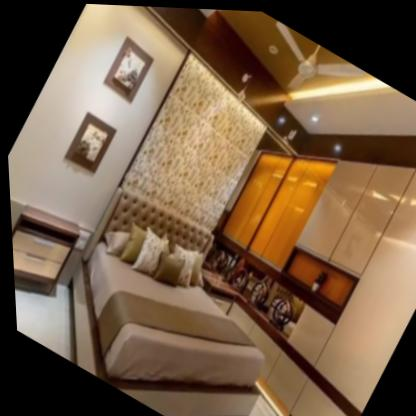Bed: (26, 169, 320, 416)
Frame: (93, 25, 164, 107), (55, 105, 124, 182)
Nightstand: (8, 190, 90, 319)
